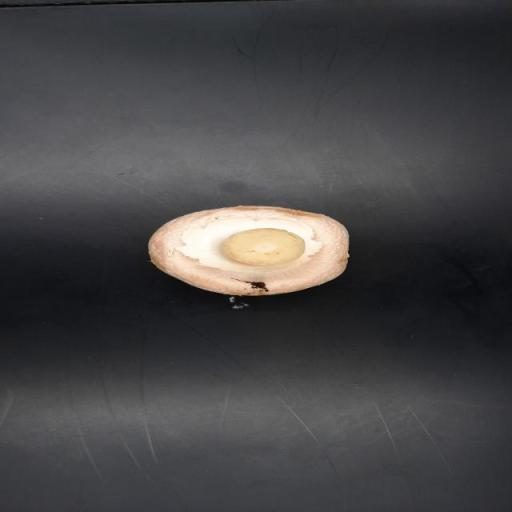mushroom: (147, 198, 352, 305)
